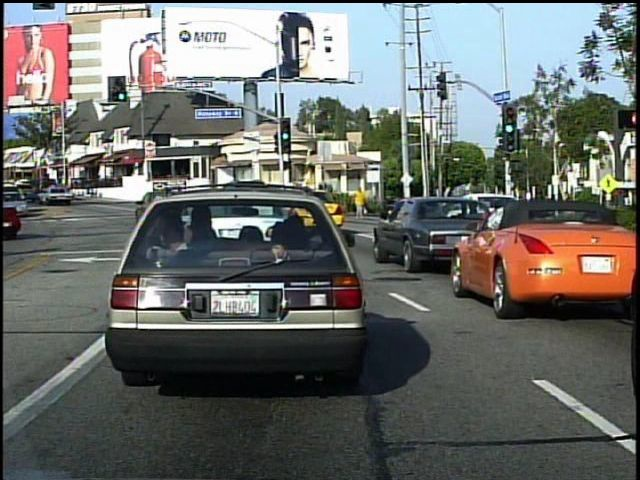person: (427, 185, 450, 231), (352, 184, 370, 223)
